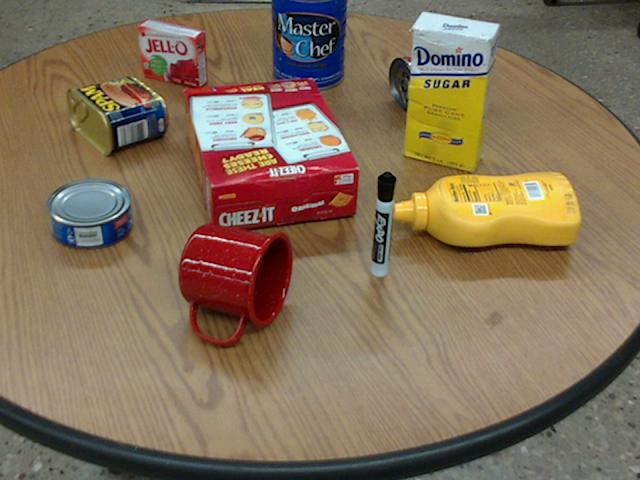cracker_box: (182, 78, 359, 232)
gelatin_box: (137, 18, 206, 86)
large_marker: (371, 171, 395, 276)
master_chef_can: (272, 0, 346, 88)
mug: (177, 224, 290, 343)
mustard_bottle: (393, 171, 579, 245)
potted_meat_can: (66, 76, 166, 153)
sugar_box: (405, 11, 498, 171)
tomato_soup_can: (388, 43, 478, 107)
tuna_fish_can: (46, 177, 130, 247)
